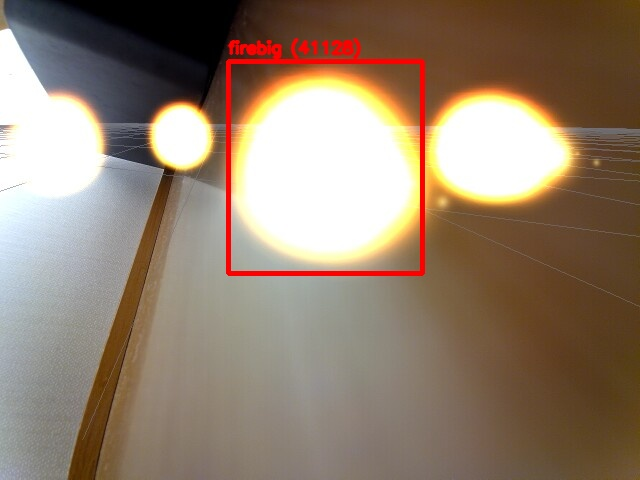firebig: (228, 61, 422, 273)
